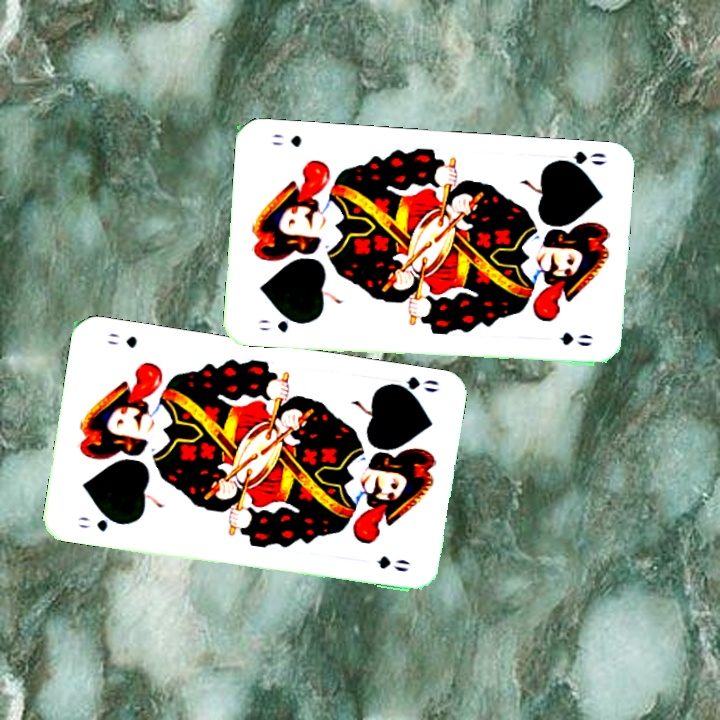GO: (549, 146, 609, 174), (382, 372, 441, 400), (73, 512, 127, 534), (254, 313, 307, 335)
